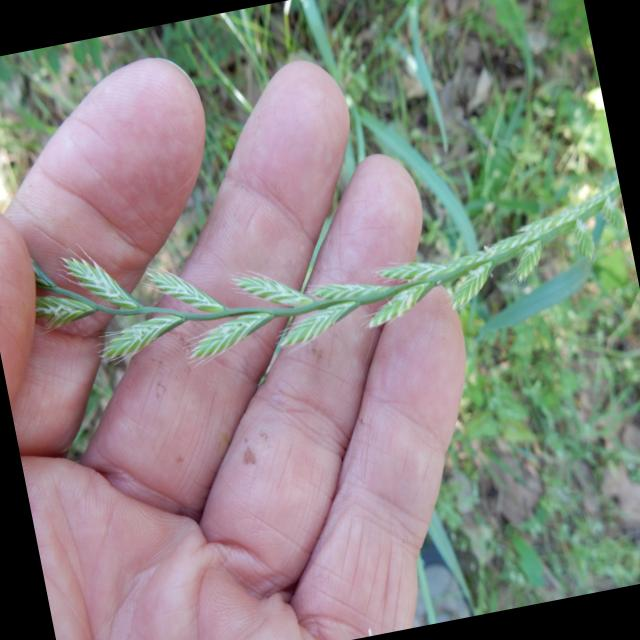Lolium: (21, 141, 640, 421)
